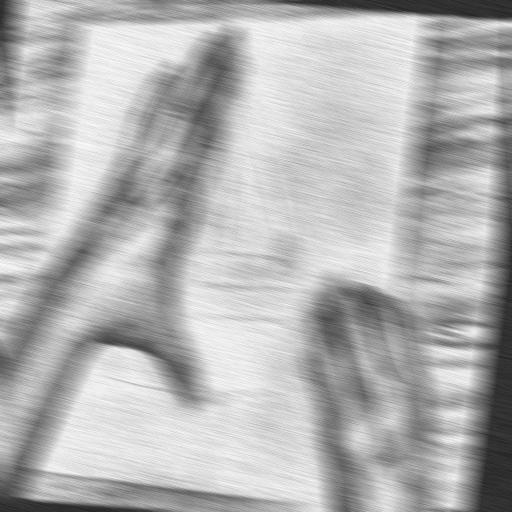boat: (78, 0, 370, 424)
bottom_left: (14, 460, 26, 469)
bottom_right: (367, 489, 383, 505)
top_left: (74, 19, 88, 32)
